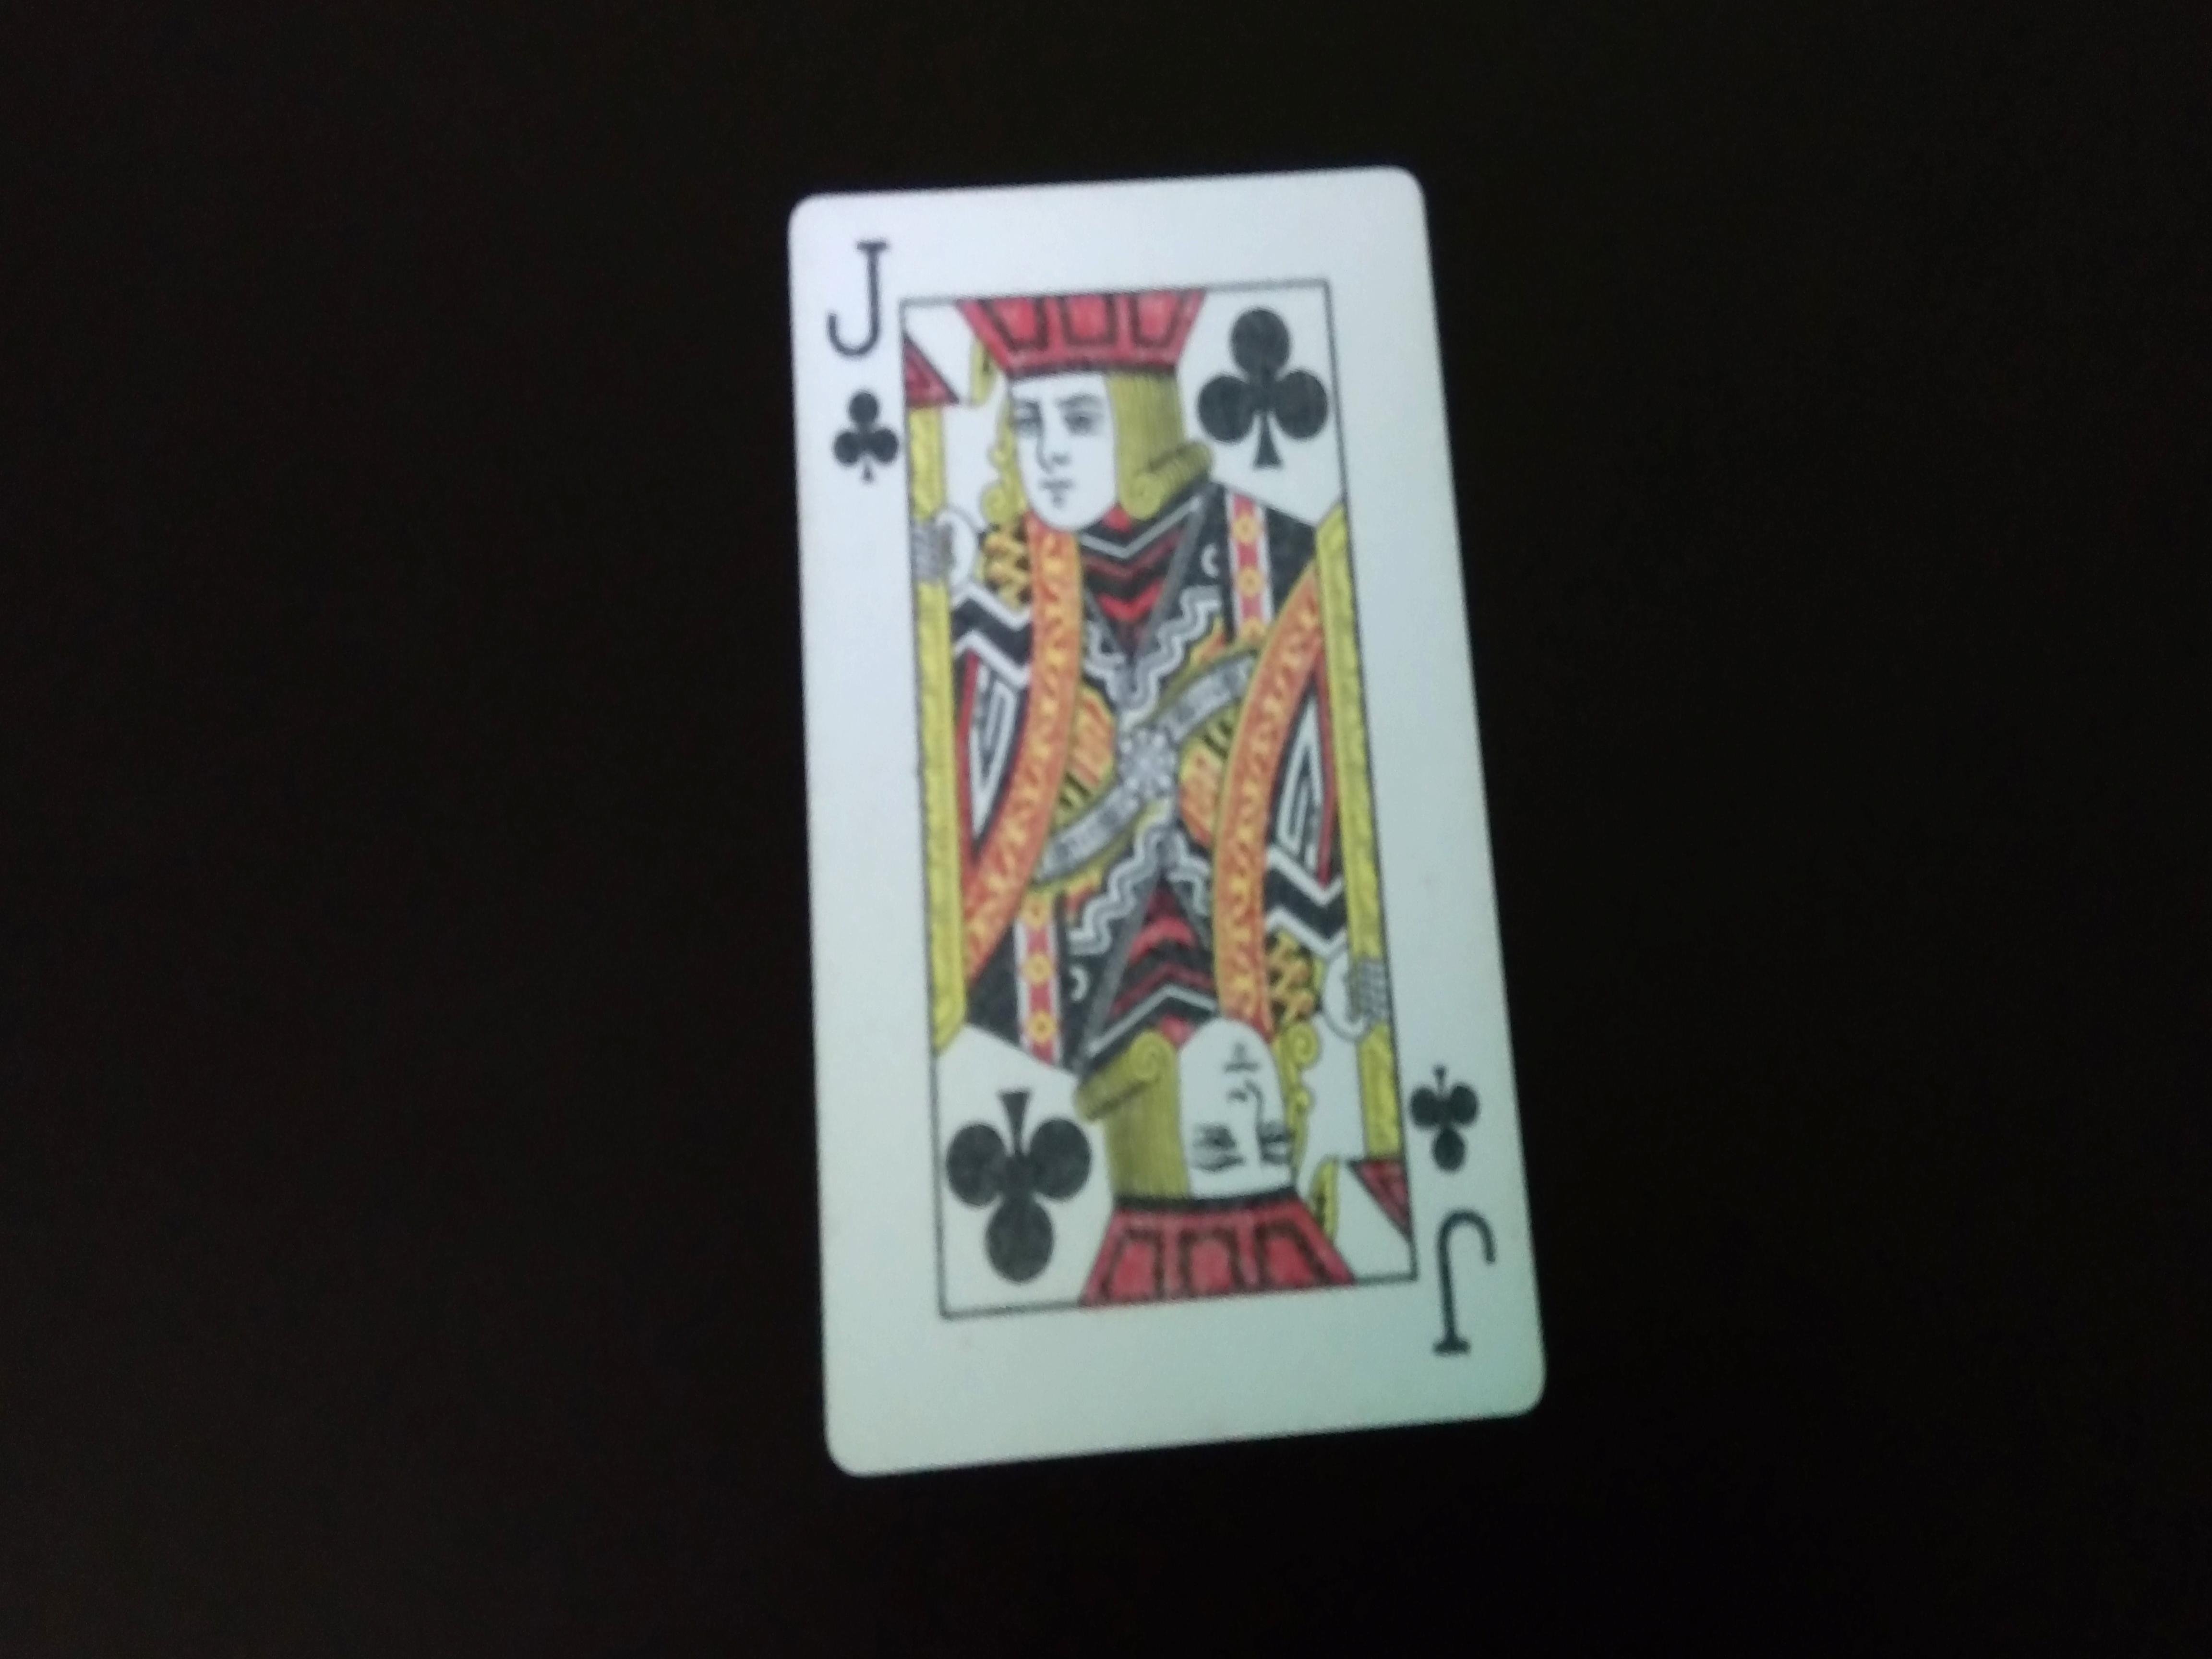JC: (824, 207, 906, 512)
